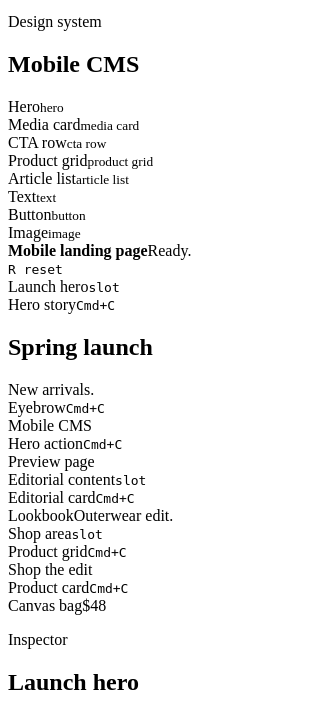
Test case: mobile CMS usable editing surface › cuts a block and moves selection to the nearest remaining neighbor
The width and height of the screenshot is (322, 714).
Expected: the heading "Mobile CMS" is shown, [8,51,139,77]
Click the text "Eyebrow" at (37, 407), box [8,399,66,416]
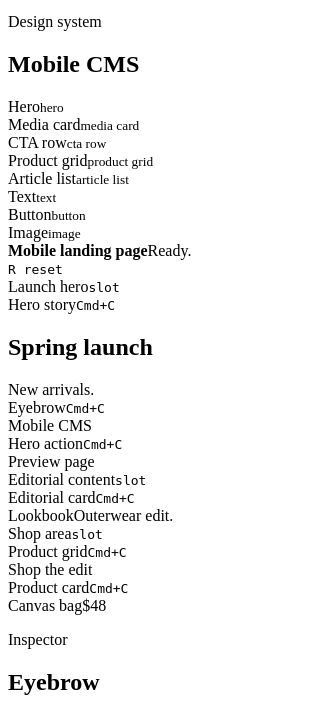
Type keys "{Control>}x{/Control}"
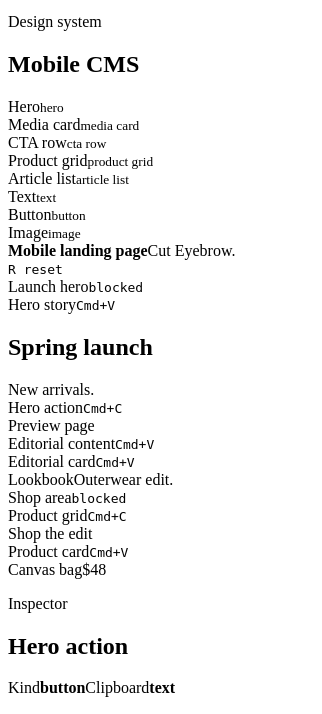
Result: the text "Cut Eyebrow." is shown at [148,242,235,259]
Result: the heading "Hero action" is shown at [8,632,128,658]
Click the text "Editorial content" at (62, 443), box [8,435,115,452]
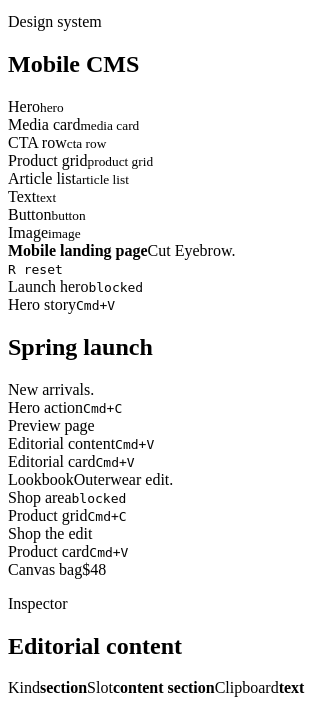
Type keys "{Control>}v{/Control}"
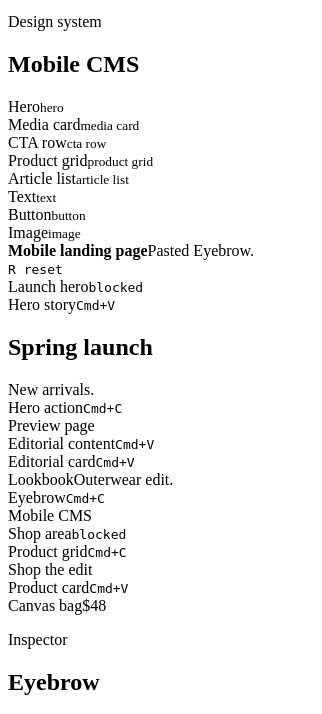
Result: the number of elements with class "block-text" is 1 at [8,489,105,524]
